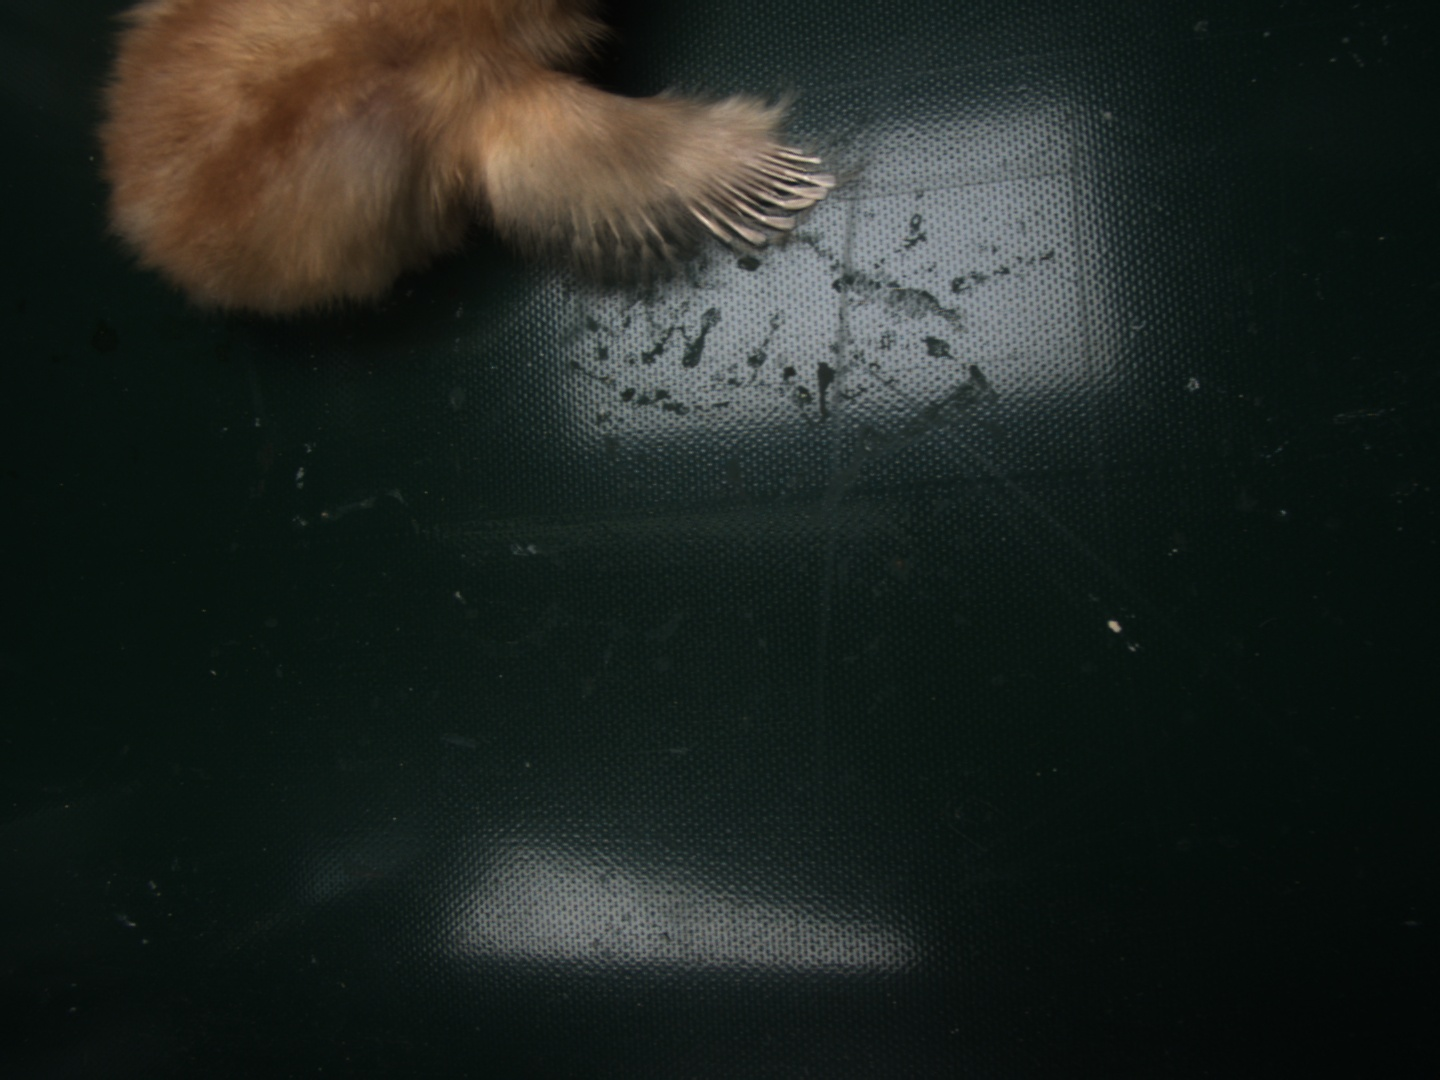female: (688, 140, 838, 248)
